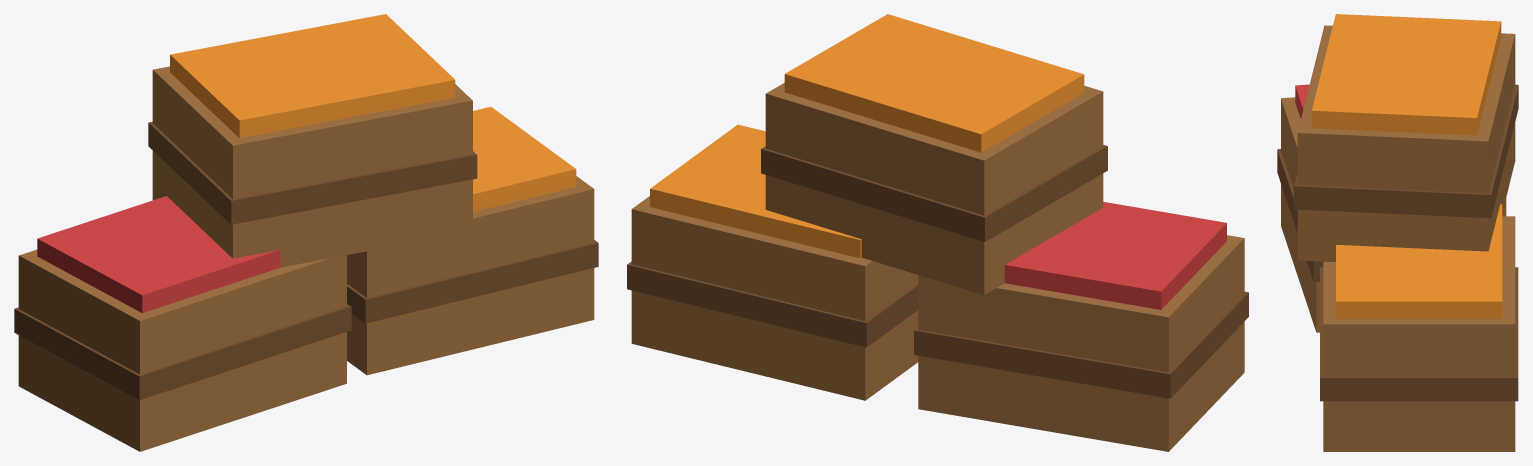
Rendered from caixotes.glb.
The picture shows the model from 3 angles, left to right: view 1: azimuth 30°, elevation 25°; view 2: azimuth 150°, elevation 25°; view 3: azimuth 270°, elevation 25°; orthographic projection. The views are drawn at different scales.
Parts seen in each view (by area): view 1: corpo; view 2: corpo; view 3: corpo.
Part boxes in pixels (bbox=[...]): corpo: bbox=[14, 14, 598, 451]; corpo: bbox=[627, 14, 1248, 451]; corpo: bbox=[1277, 14, 1518, 451].
Size of the model in its own units: 0.4448 by 0.235 by 0.1888.
